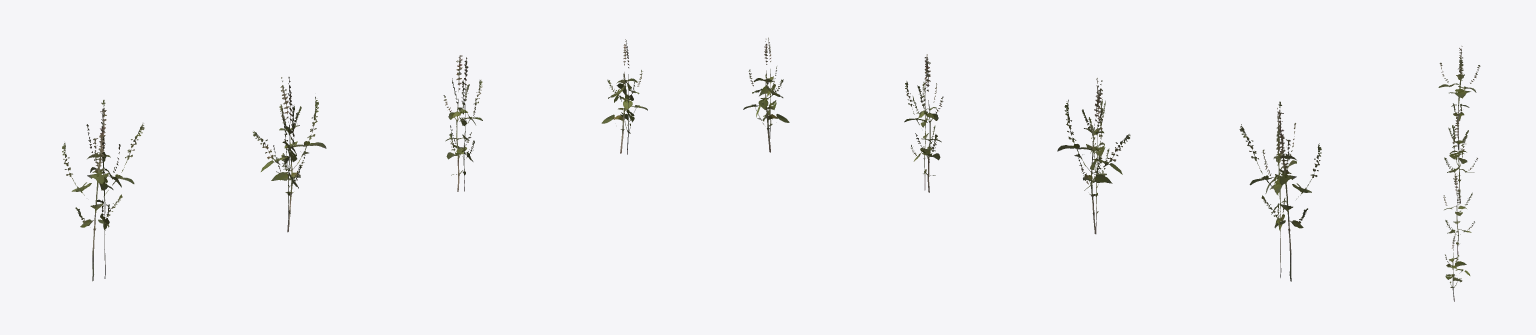
Rendered from shrub_03_far.glb.
The picture shows the model from 3 angles, left to right: view 1: azimuth 30°, elevation 25°; view 2: azimuth 150°, elevation 25°; view 3: azimuth 270°, elevation 25°; orthographic projection. The views are drawn at different scales.
Visible parts, largest first — view 1: shrub_03_a, shrub_03_b, shrub_03_c, shrub_03_d; view 2: shrub_03_a, shrub_03_b, shrub_03_c, shrub_03_d; view 3: shrub_03_b, shrub_03_a, shrub_03_c, shrub_03_d.
Boxes of the visible parts, <box> form: shrub_03_a: <box>62,100,144,281</box>; shrub_03_b: <box>253,77,326,232</box>; shrub_03_c: <box>443,55,482,191</box>; shrub_03_d: <box>601,39,647,154</box>; shrub_03_a: <box>1239,101,1321,281</box>; shrub_03_b: <box>1057,78,1130,234</box>; shrub_03_c: <box>904,54,943,192</box>; shrub_03_d: <box>743,37,789,152</box>; shrub_03_b: <box>1444,110,1477,203</box>; shrub_03_a: <box>1438,46,1480,149</box>; shrub_03_c: <box>1443,173,1474,254</box>; shrub_03_d: <box>1445,233,1470,301</box>.
Size of the model in its own units: 1.55 by 0.4189 by 0.4189.
8 materials, 8 textured.
